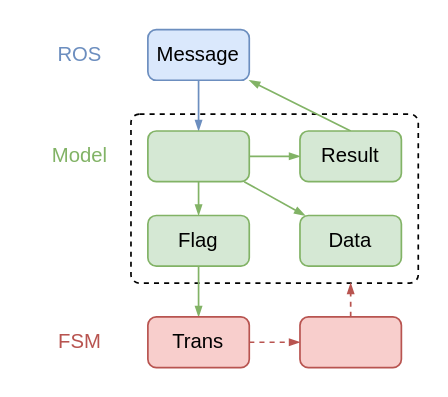
Some shapes in this 448 by 397 pixel diagram are drawn without their labels. Here are the shapes that lost their labels. From the top down, the centre of each, then its label:
point 197,155: Status
point 349,341: State
